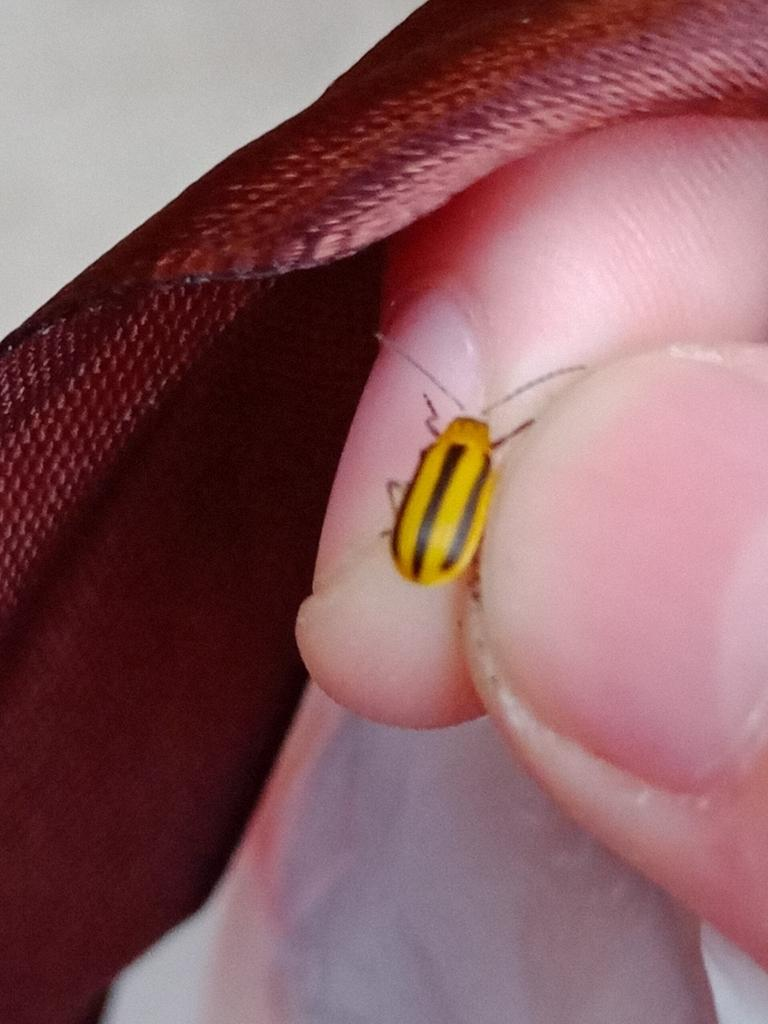potato_beetle: (309, 281, 621, 660)
